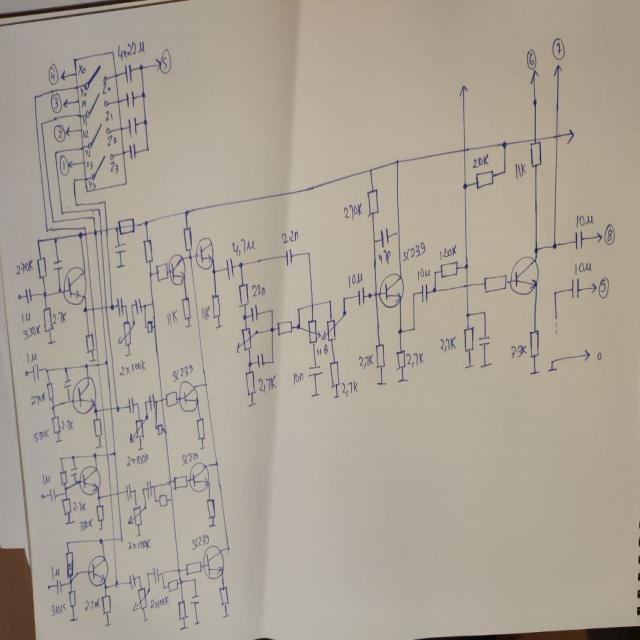capacitor: (572, 230, 586, 252), (284, 248, 296, 270), (308, 362, 324, 378), (224, 256, 234, 280), (123, 61, 133, 83), (379, 226, 389, 248), (570, 276, 580, 298), (128, 116, 138, 137), (355, 286, 365, 306), (419, 281, 428, 303), (24, 287, 34, 306), (113, 242, 127, 255), (477, 334, 491, 347), (125, 90, 135, 108), (116, 296, 124, 318), (145, 478, 153, 498), (32, 362, 40, 382), (128, 144, 138, 160), (124, 483, 132, 501), (152, 566, 160, 584), (134, 296, 142, 314), (52, 259, 64, 271), (127, 396, 135, 414), (250, 304, 258, 322), (190, 592, 200, 605), (128, 573, 136, 589), (49, 486, 57, 502), (256, 353, 264, 368), (149, 392, 155, 411), (62, 378, 72, 389), (56, 578, 62, 595), (70, 466, 78, 476)
crossover: (553, 130, 559, 140), (114, 489, 120, 497), (104, 226, 109, 233), (108, 490, 112, 498), (99, 227, 103, 235), (91, 304, 95, 312), (100, 303, 104, 311), (109, 404, 113, 412), (533, 136, 538, 142), (168, 478, 172, 485), (101, 406, 105, 413), (96, 361, 100, 368), (105, 451, 109, 458), (310, 302, 314, 309), (104, 304, 108, 310), (373, 291, 377, 297), (112, 536, 115, 542), (84, 232, 88, 236)
ground: (479, 361, 491, 369), (116, 262, 126, 270), (528, 369, 540, 375), (463, 363, 475, 369), (64, 519, 76, 525), (376, 380, 387, 386), (546, 367, 558, 372), (397, 377, 409, 382), (310, 392, 320, 398), (68, 616, 78, 622), (248, 400, 256, 407), (47, 339, 56, 345), (208, 522, 216, 528), (104, 621, 112, 627), (222, 612, 230, 618), (55, 437, 63, 443), (136, 445, 144, 451), (215, 323, 222, 329), (125, 351, 132, 357), (200, 444, 206, 450), (142, 616, 148, 622), (194, 620, 200, 626), (179, 626, 188, 630), (185, 322, 191, 328), (333, 394, 340, 399), (95, 444, 103, 448), (88, 358, 96, 362), (98, 526, 104, 531), (136, 532, 142, 536)
inductor: (65, 550, 73, 579)
junction: (296, 321, 302, 332), (551, 240, 557, 250), (140, 89, 146, 99), (142, 116, 148, 126), (138, 61, 144, 71), (142, 218, 148, 227), (463, 261, 469, 270), (462, 181, 468, 190), (114, 404, 120, 413), (501, 140, 507, 148), (397, 326, 403, 334), (464, 310, 470, 318), (183, 208, 189, 216), (98, 536, 104, 544), (144, 145, 150, 153), (118, 535, 124, 543), (463, 281, 469, 289), (62, 364, 68, 372), (56, 286, 62, 294), (268, 325, 274, 333), (533, 246, 539, 254), (70, 453, 76, 461), (83, 361, 89, 368), (50, 403, 56, 410), (203, 380, 208, 388), (552, 288, 557, 296), (32, 92, 37, 100), (462, 145, 467, 153), (78, 230, 83, 238), (42, 290, 47, 298), (114, 579, 118, 588), (410, 325, 416, 331), (114, 224, 118, 233), (394, 157, 399, 164), (44, 366, 49, 373), (82, 306, 87, 313), (247, 360, 252, 367), (238, 261, 243, 268), (242, 313, 247, 320), (68, 578, 73, 585), (104, 357, 108, 365), (306, 249, 310, 257), (226, 544, 230, 552), (36, 236, 40, 244), (395, 228, 399, 236), (110, 303, 114, 311), (368, 166, 372, 173), (296, 305, 300, 312), (342, 309, 346, 316), (148, 270, 152, 277), (112, 449, 116, 456), (150, 299, 154, 306), (432, 286, 436, 293), (188, 253, 192, 260), (58, 455, 62, 462), (92, 452, 96, 459), (97, 494, 101, 501), (66, 397, 70, 404), (53, 236, 57, 243), (93, 228, 97, 235), (45, 226, 49, 233), (143, 399, 147, 406), (367, 291, 371, 298), (143, 504, 147, 511), (214, 460, 218, 466), (342, 294, 346, 300), (482, 309, 486, 315), (502, 168, 506, 174), (327, 298, 331, 304), (269, 306, 273, 312), (72, 177, 76, 183), (270, 358, 274, 364), (74, 201, 78, 207), (169, 496, 173, 502), (153, 497, 157, 503), (141, 486, 145, 492), (133, 488, 137, 494), (104, 584, 108, 590), (433, 269, 437, 275), (212, 268, 216, 274), (73, 480, 77, 486), (93, 408, 97, 414), (40, 120, 44, 126), (53, 150, 57, 156), (60, 210, 64, 216), (97, 206, 101, 212), (372, 238, 376, 244), (154, 398, 158, 404), (145, 570, 149, 576), (162, 584, 166, 590), (193, 576, 197, 582), (178, 579, 182, 585), (65, 540, 69, 546), (550, 359, 554, 365), (176, 567, 180, 573), (132, 319, 136, 325), (411, 291, 415, 296), (63, 491, 67, 496), (51, 219, 55, 224), (83, 225, 87, 230), (152, 323, 156, 328), (144, 414, 148, 419), (160, 571, 163, 577), (63, 486, 67, 490), (124, 304, 128, 308), (103, 200, 107, 204), (135, 401, 139, 405), (137, 574, 141, 578), (152, 484, 155, 489), (143, 303, 146, 308), (163, 426, 166, 431), (92, 216, 95, 220), (144, 323, 146, 328), (154, 426, 157, 429), (131, 303, 133, 307), (161, 397, 163, 401)
resistor: (235, 326, 258, 353), (320, 317, 338, 345), (483, 273, 507, 293), (132, 586, 150, 612), (129, 414, 145, 443), (474, 169, 494, 190), (116, 320, 132, 346), (127, 503, 143, 527), (438, 259, 458, 278), (366, 186, 378, 217), (328, 360, 340, 388), (528, 328, 539, 358), (530, 140, 542, 167), (462, 325, 474, 352), (117, 216, 135, 234), (43, 306, 55, 332), (84, 330, 96, 356), (275, 318, 293, 335), (306, 318, 318, 343), (245, 369, 256, 396), (183, 224, 193, 253), (172, 473, 188, 490), (184, 560, 202, 575), (375, 342, 385, 369), (238, 280, 248, 307), (394, 348, 406, 370), (36, 254, 46, 280), (211, 293, 221, 319), (155, 262, 168, 282), (177, 599, 189, 620), (143, 238, 153, 263), (218, 585, 229, 607), (181, 296, 191, 320), (196, 417, 206, 440), (100, 594, 111, 614), (92, 417, 102, 438), (165, 390, 177, 407), (50, 414, 60, 434), (206, 498, 216, 518), (61, 496, 71, 516), (166, 578, 178, 593), (58, 468, 68, 486), (46, 380, 54, 401), (158, 492, 168, 507), (68, 589, 76, 607), (96, 504, 104, 521), (146, 319, 152, 333), (157, 422, 162, 435)
switch: (90, 150, 116, 181), (87, 121, 113, 150), (83, 90, 109, 118), (83, 63, 107, 90)
terminal: (530, 69, 540, 85), (566, 128, 574, 143), (458, 85, 468, 97), (583, 348, 591, 362), (553, 64, 562, 76), (155, 55, 161, 71), (596, 231, 602, 243), (590, 282, 596, 293), (65, 124, 71, 135), (63, 98, 69, 108), (39, 492, 45, 501), (61, 68, 65, 81), (68, 158, 72, 168), (24, 370, 28, 378), (17, 292, 21, 300), (46, 583, 50, 590)
text: (116, 39, 146, 61), (119, 359, 147, 380), (401, 241, 425, 262), (230, 237, 256, 254), (257, 373, 277, 393), (125, 452, 150, 468), (550, 36, 566, 60), (342, 201, 362, 219), (180, 448, 200, 466), (172, 364, 192, 382), (148, 592, 170, 608), (405, 349, 425, 366), (572, 258, 592, 275), (341, 379, 359, 397), (160, 47, 172, 74), (14, 258, 34, 274), (597, 274, 609, 300), (251, 282, 269, 299), (438, 335, 456, 352), (191, 533, 209, 550), (22, 323, 40, 340), (524, 44, 536, 68), (508, 342, 526, 358), (280, 228, 298, 244), (603, 221, 615, 245), (29, 390, 47, 405), (515, 160, 527, 182), (127, 538, 151, 549), (358, 353, 374, 369), (472, 152, 488, 168), (84, 596, 100, 612), (438, 244, 456, 258), (576, 212, 594, 226), (166, 308, 178, 328), (48, 61, 58, 85), (377, 248, 391, 265), (50, 602, 66, 616), (78, 516, 94, 530), (59, 154, 69, 176), (50, 92, 61, 112), (32, 428, 50, 440), (72, 499, 88, 512), (53, 311, 69, 324), (415, 266, 431, 279), (348, 272, 362, 286), (24, 348, 39, 361), (108, 160, 120, 176), (60, 418, 74, 431), (50, 563, 62, 578), (293, 370, 305, 385), (54, 124, 64, 142), (41, 469, 51, 486), (103, 110, 116, 123), (594, 348, 604, 364), (200, 304, 210, 320), (20, 309, 32, 322), (106, 135, 118, 148), (316, 343, 328, 355), (101, 79, 110, 95), (553, 315, 559, 338), (85, 178, 98, 188), (80, 128, 90, 141), (76, 63, 86, 76), (84, 160, 94, 171), (555, 41, 562, 55), (83, 148, 92, 158), (162, 55, 168, 70), (599, 278, 605, 292), (606, 228, 612, 242), (528, 51, 534, 65), (79, 88, 87, 98), (53, 95, 58, 110), (56, 127, 62, 139), (82, 115, 88, 126), (50, 69, 55, 82), (62, 158, 66, 172), (82, 101, 86, 108)
transistor: (508, 255, 538, 295), (378, 271, 404, 308), (72, 375, 96, 415), (62, 266, 86, 305), (202, 544, 224, 580), (176, 378, 198, 412), (87, 554, 109, 587), (188, 460, 210, 492), (79, 464, 101, 496), (194, 236, 213, 270), (168, 253, 186, 286)
